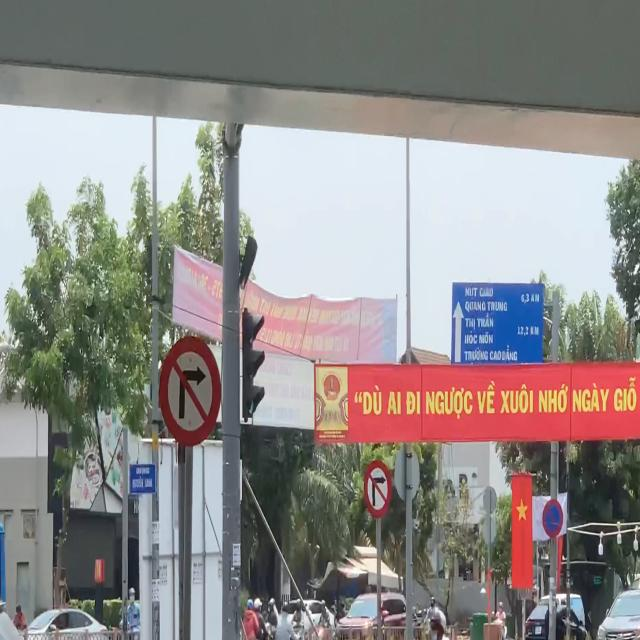Cam do: (542, 498, 564, 540)
Cam re phai: (160, 334, 221, 447), (364, 458, 392, 518)
